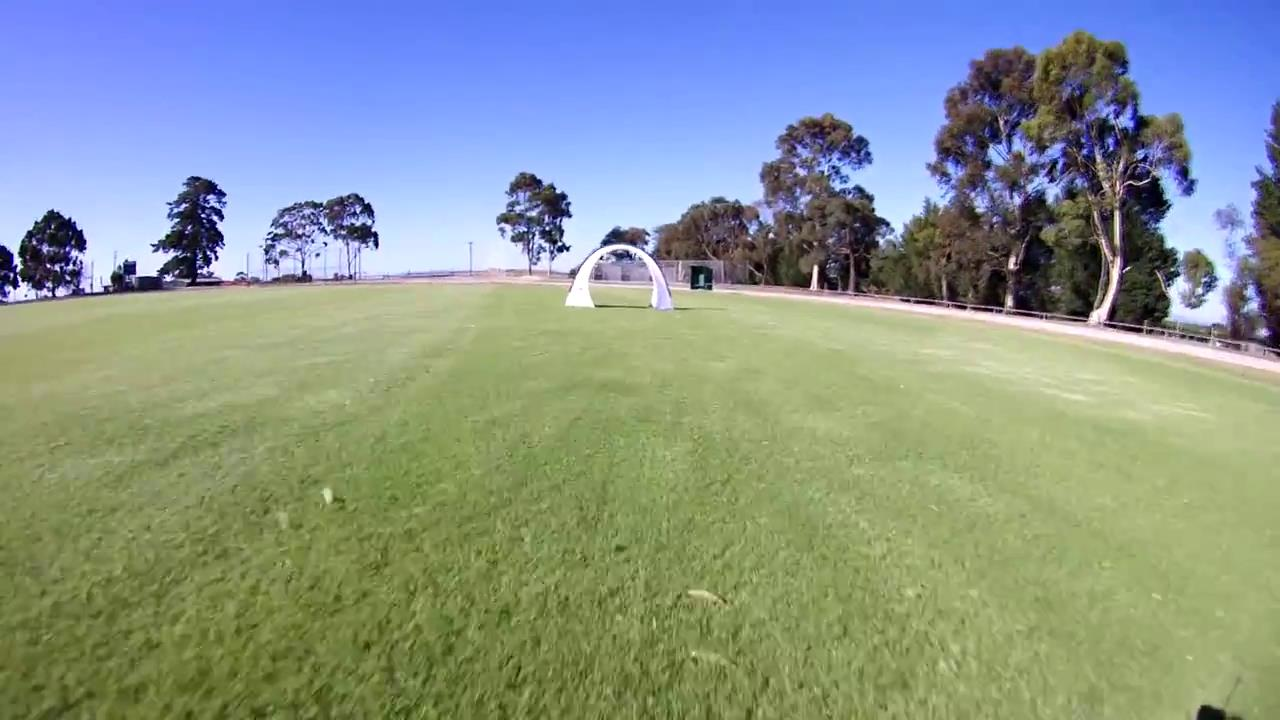gate: (564, 243, 675, 311)
